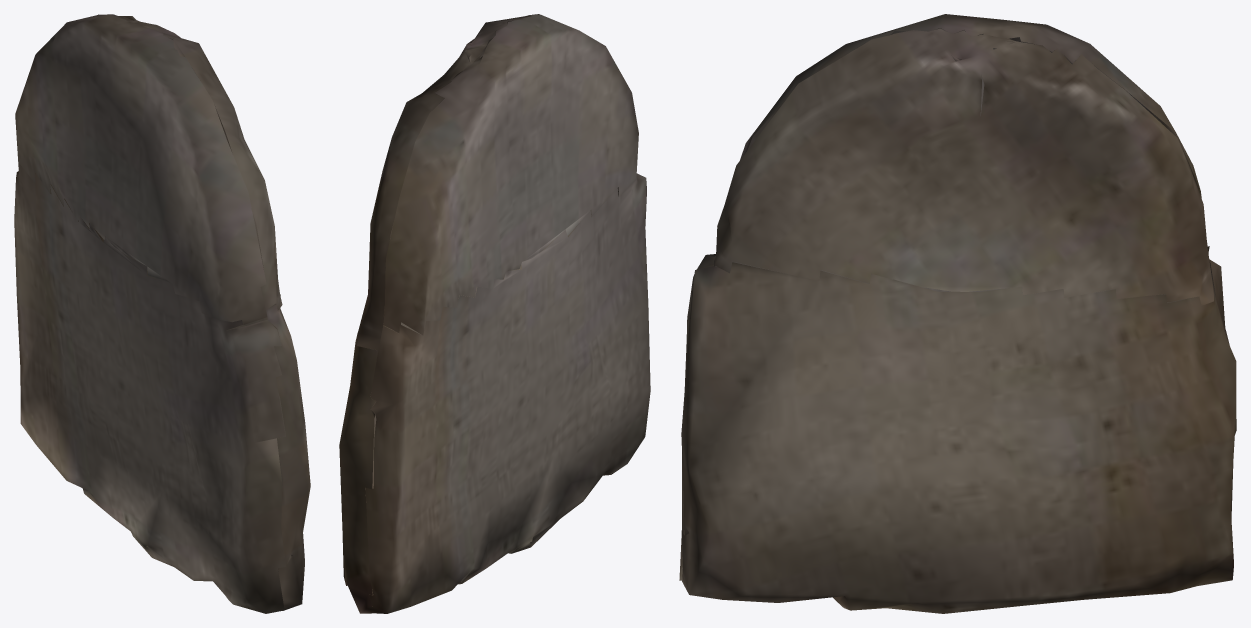
Rendered from gravestone_aba.glb.
3 renders of one model, left to right at view 1: azimuth 30°, elevation 25°; view 2: azimuth 150°, elevation 25°; view 3: azimuth 270°, elevation 25°, orthographic. The views are drawn at different scales.
Parts seen in each view (by area): view 1: Object_2; view 2: Object_2; view 3: Object_2.
Part boxes in pixels (x1,y1,x2,y2): Object_2: (14,14,310,613); Object_2: (339,14,650,613); Object_2: (679,14,1236,613).
Size of the model in its own units: 0.7435 by 4.78 by 4.2.
Materials: 1 (1 with a texture image).
